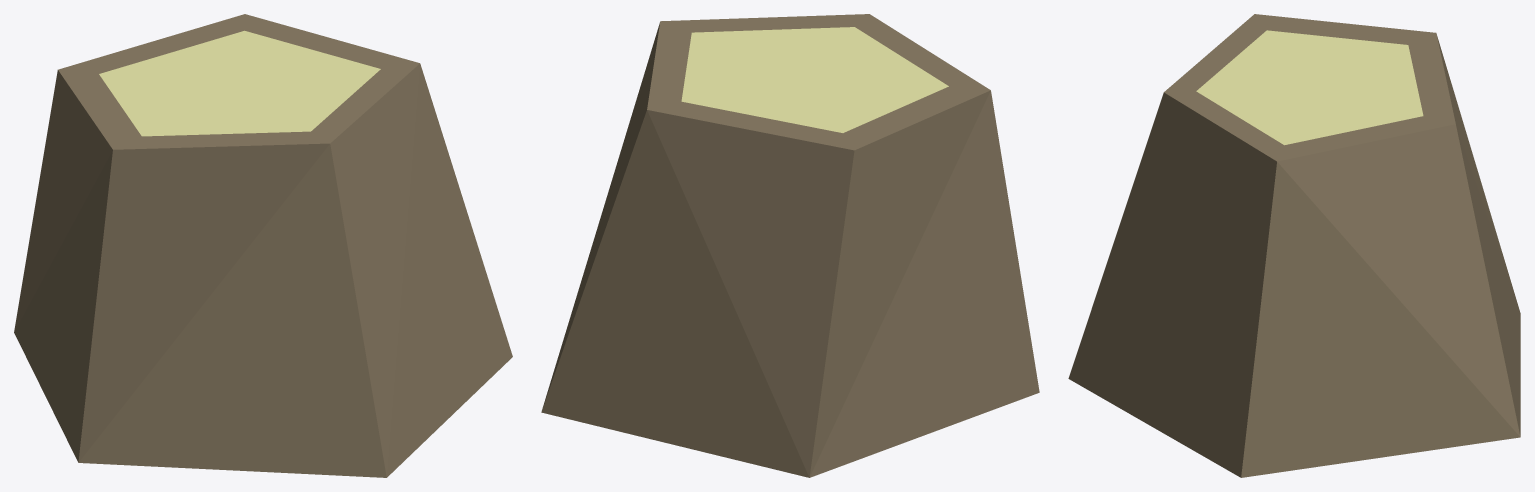
The model's file is Apple_0_2.fbx.
The picture shows the model from 3 angles, left to right: view 1: azimuth 30°, elevation 25°; view 2: azimuth 150°, elevation 25°; view 3: azimuth 270°, elevation 25°; orthographic projection. The views are drawn at different scales.
Visible parts, largest first — view 1: Apple_0_2; view 2: Apple_0_2; view 3: Apple_0_2.
Boxes of the visible parts, x1,y1,x2,y2 form: Apple_0_2: (14, 14, 512, 477); Apple_0_2: (541, 14, 1039, 477); Apple_0_2: (1068, 14, 1520, 477).
Bounding box in the file's own units: 71.33 × 46.92 × 67.81.
